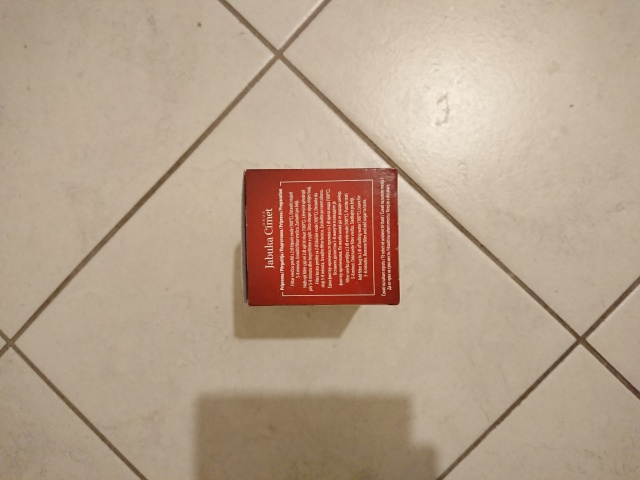Franck Apple Cinnamon Tea 60g: (237, 163, 404, 310)
